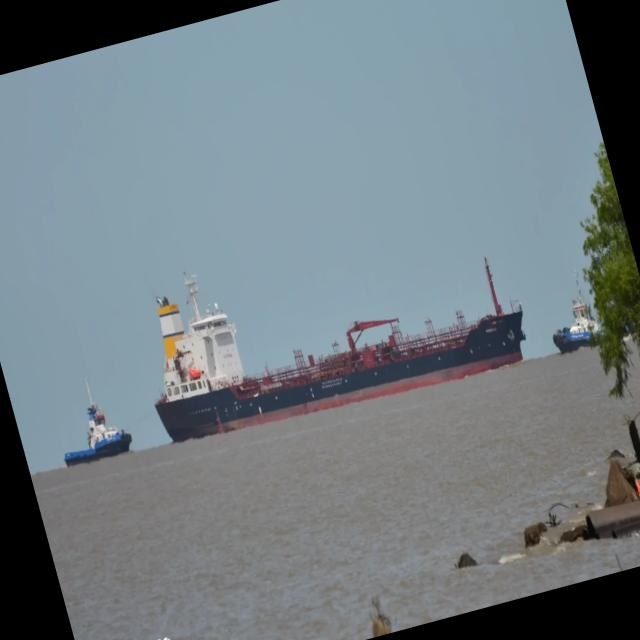Tanker: (154, 271, 525, 441)
Tug: (64, 382, 131, 466), (552, 270, 599, 353)
